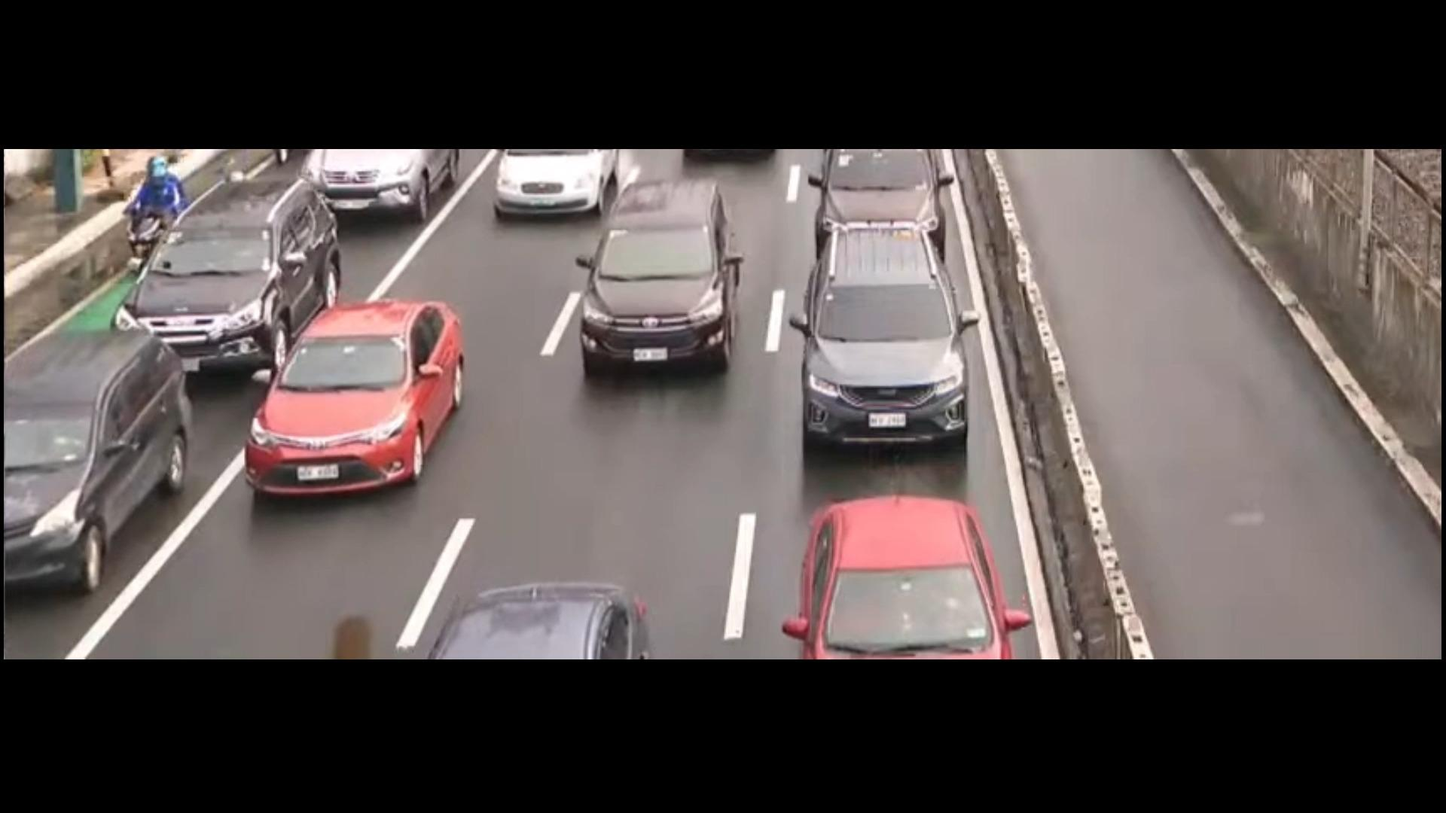Motorcycle: (120, 151, 183, 274)
SUV: (0, 328, 217, 604), (116, 160, 347, 389), (783, 222, 979, 459), (557, 181, 748, 399), (802, 143, 953, 258)
Sedan: (231, 281, 482, 521), (786, 490, 1028, 661)
